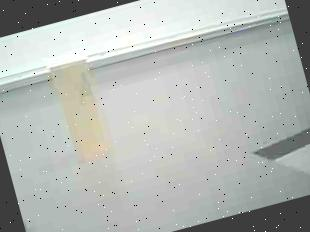Bottle A: (40, 44, 122, 172)
